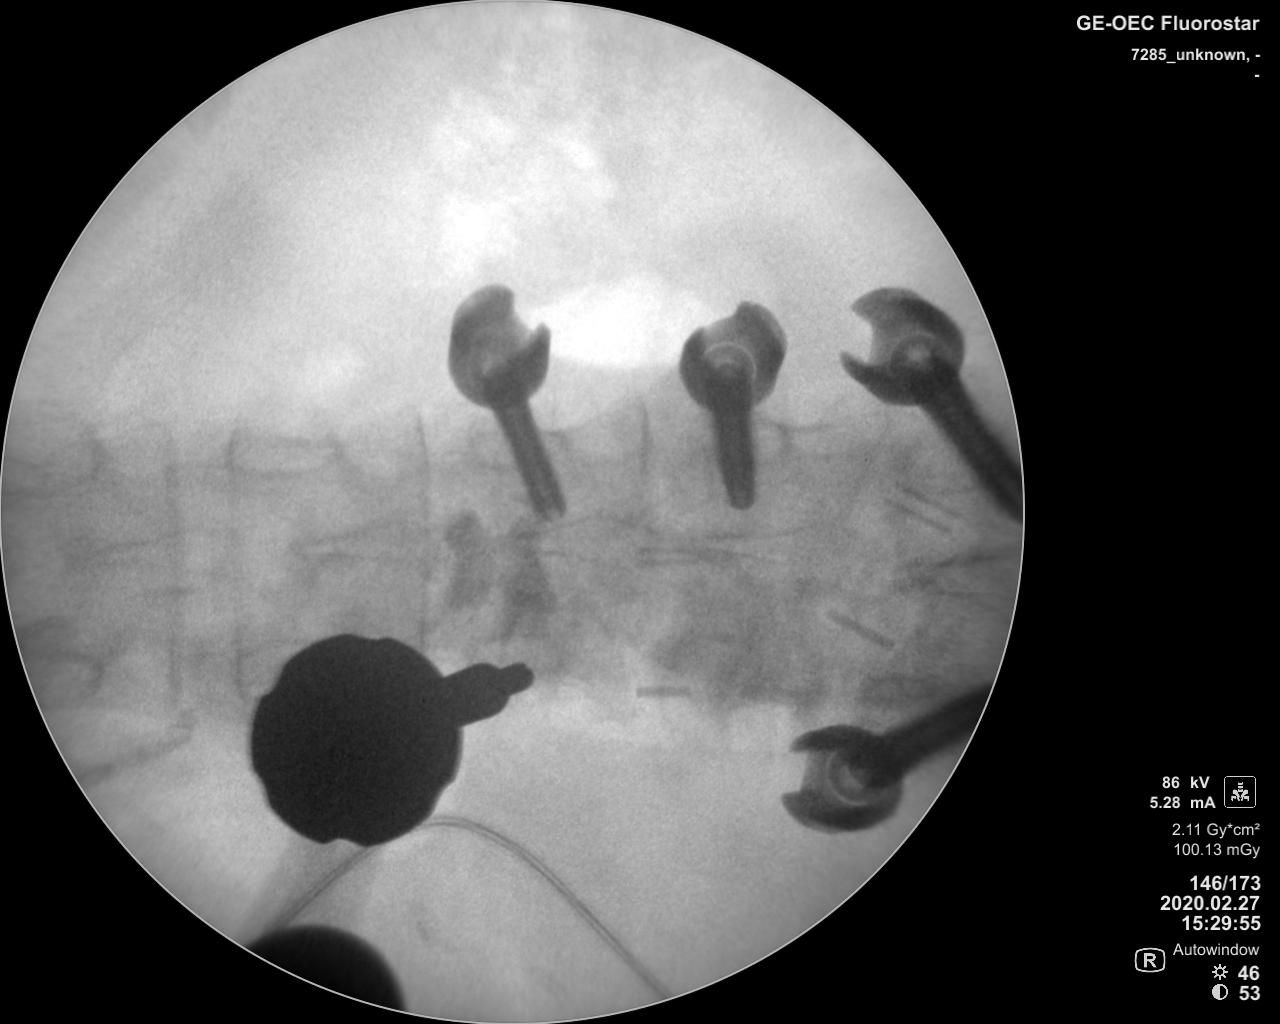eyes: (6, 432, 106, 494), (226, 435, 338, 476), (32, 648, 106, 702)
lilne: (155, 419, 189, 721), (222, 418, 251, 706), (408, 402, 434, 651)
nose: (63, 523, 245, 580), (279, 513, 434, 569), (487, 514, 655, 564)
